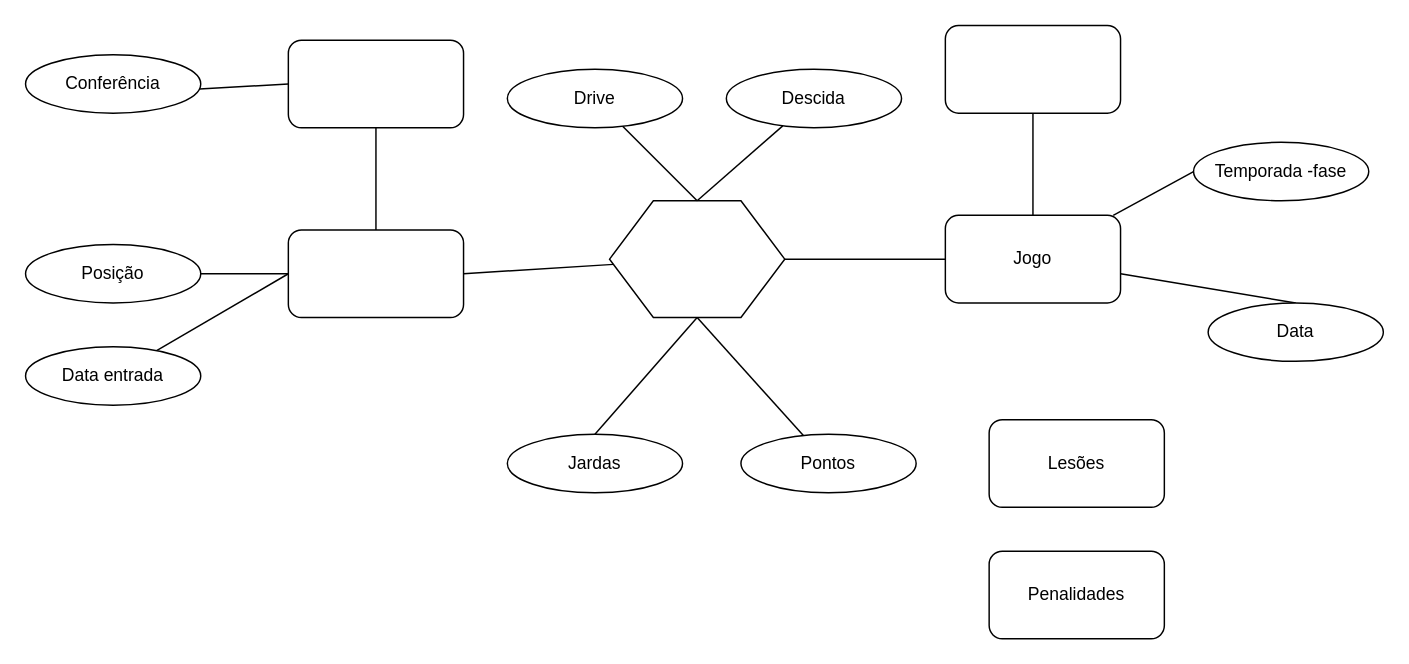
This 1409x664 diagram has some shape labels left out. The shapes that lost their labels are listed below. From the top down, each one's centre as x and y in pixels, then its label:
At (x=375, y=83): "Time".
At (x=1032, y=68): "Estádio".
At (x=375, y=273): "Jogador".
At (x=696, y=258): "Jogadas".
